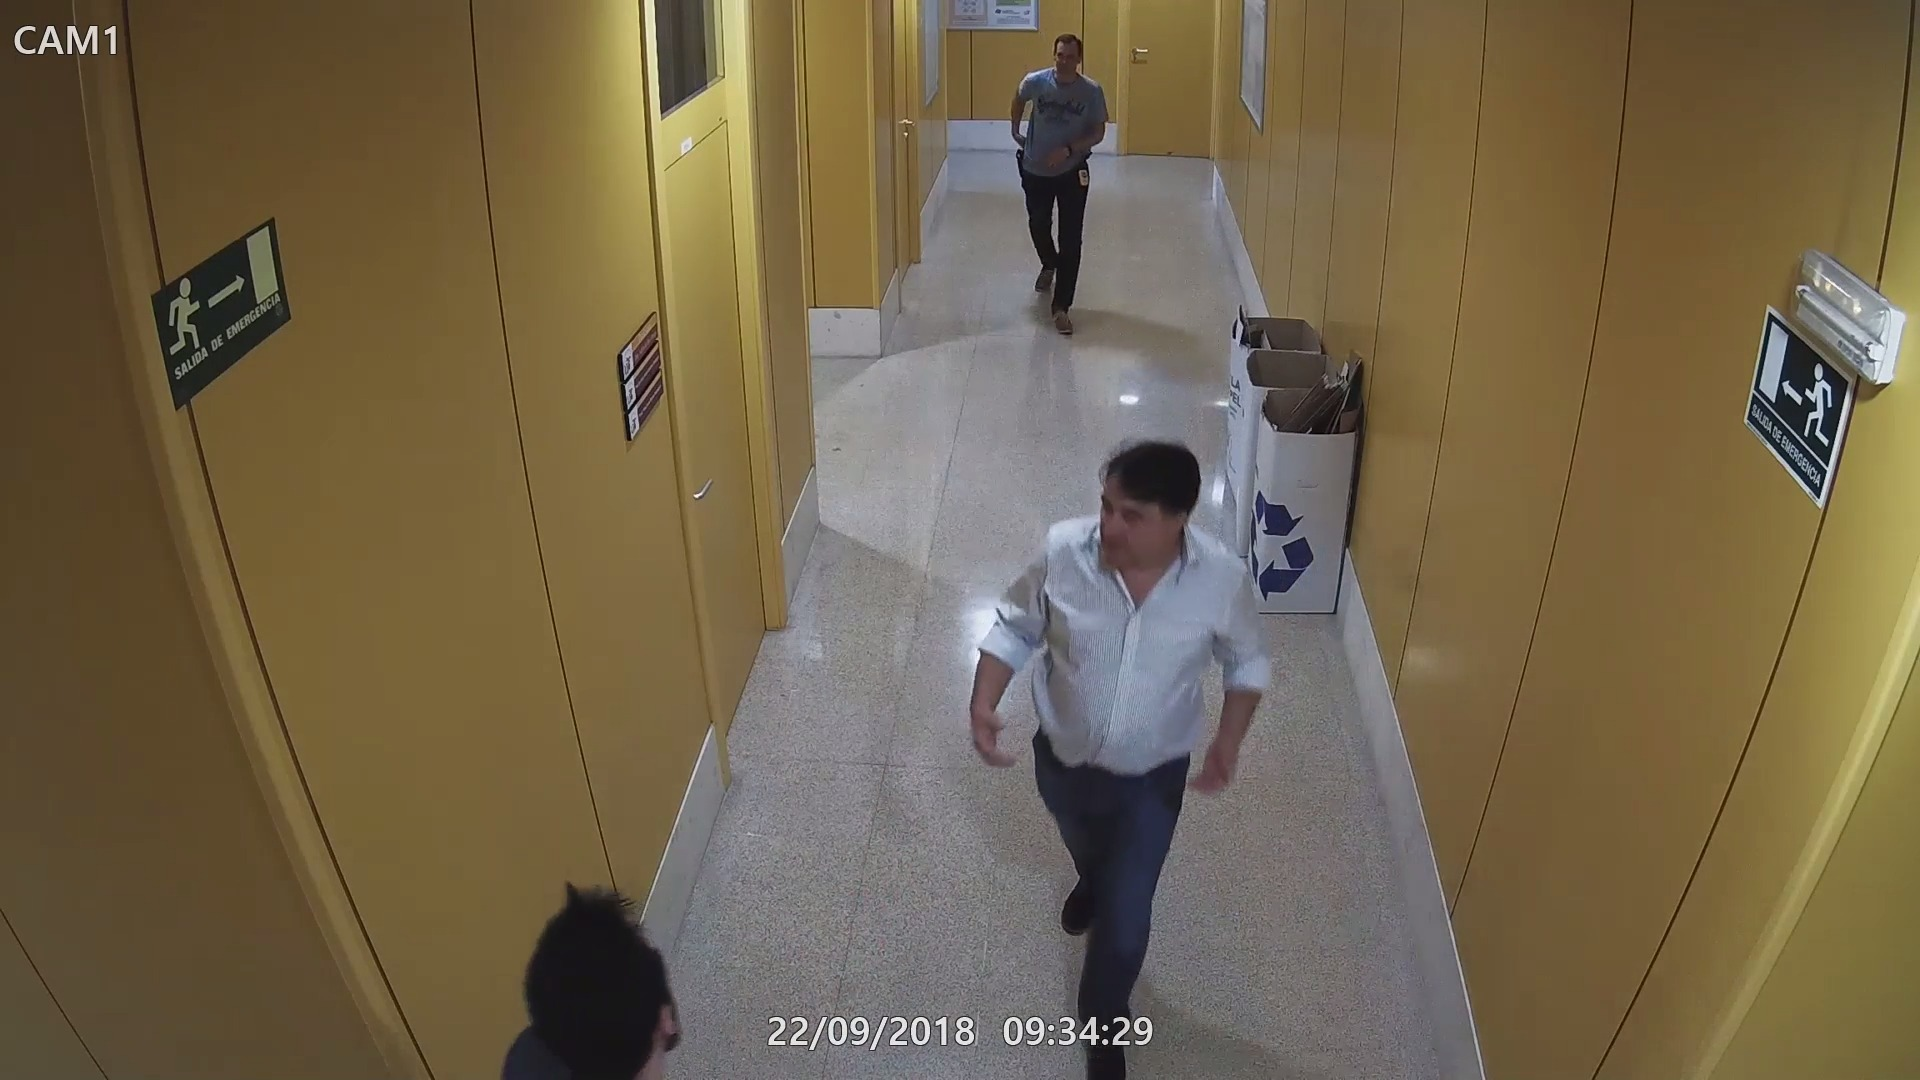Handgun: (1006, 148, 1033, 183)
